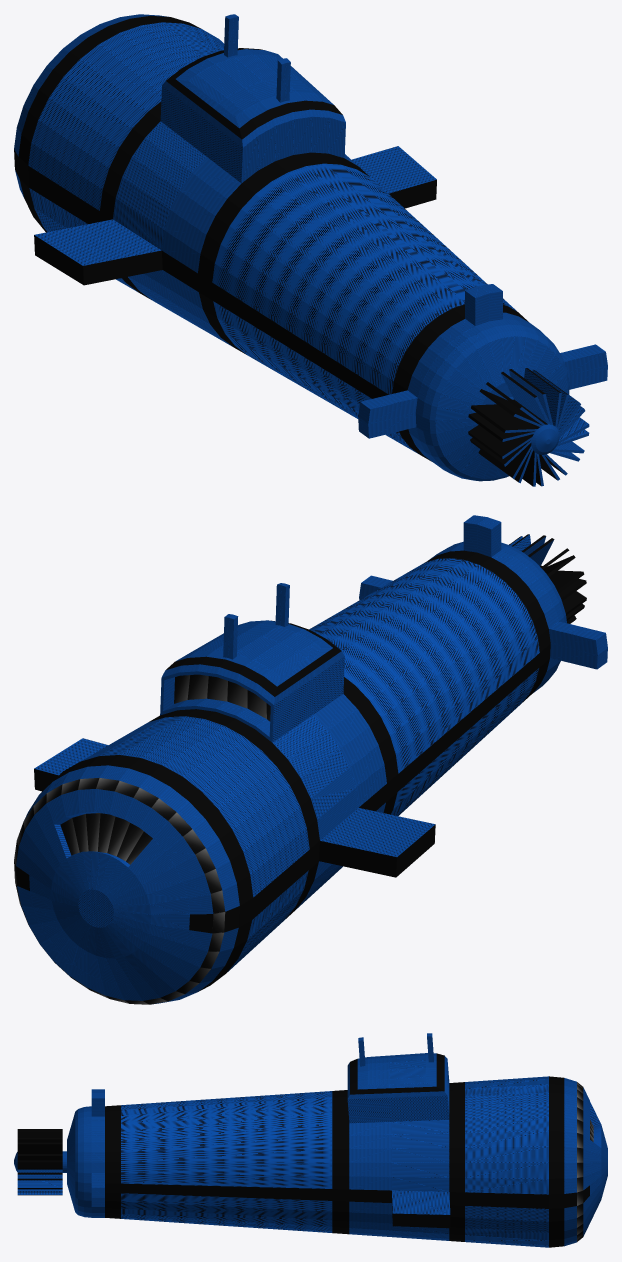
The model's file is BLUE_Submarine.fbx.
3 views of the same model, one above another, from view 1: azimuth 30°, elevation 25°; view 2: azimuth 150°, elevation 25°; view 3: azimuth 270°, elevation 25° (orthographic). The views are drawn at different scales.
Parts seen in each view (by area): view 1: Cylinder; view 2: Cylinder; view 3: Cylinder.
Part boxes in pixels (<box>): Cylinder: <box>14,14,607,486</box>; Cylinder: <box>14,515,607,1004</box>; Cylinder: <box>14,1033,607,1247</box>.
Size of the model in its own units: 322 by 264 by 693.
